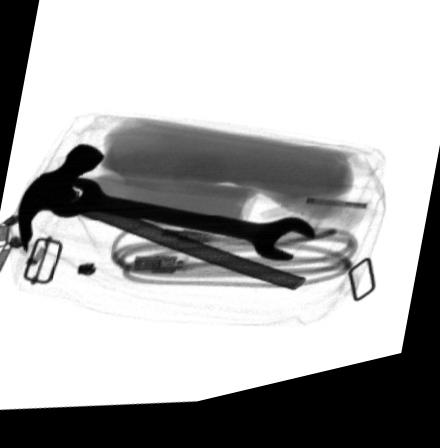Hammer: (16, 146, 304, 303)
Wrench: (47, 179, 314, 274)
